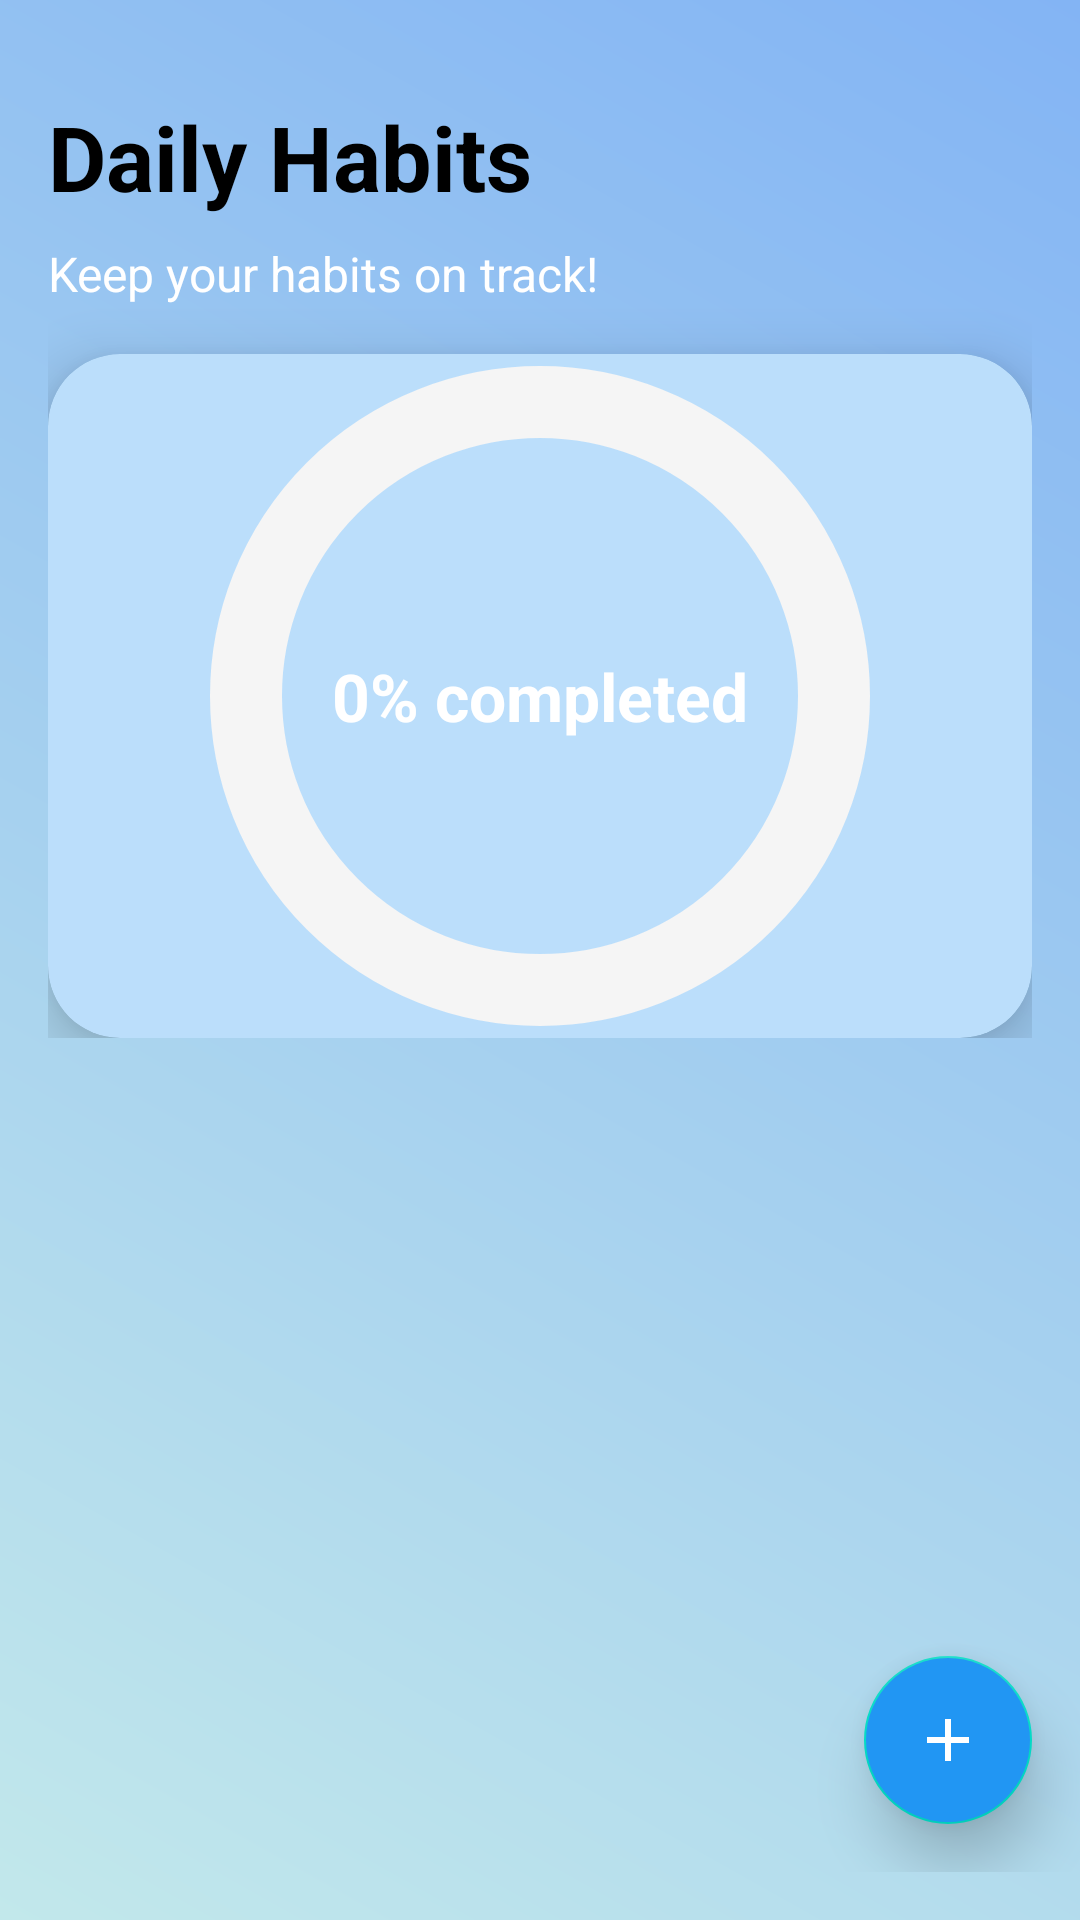

Point at icon controls on the screen. Image size 1080*1920, points as [x,y].
Add Habit: [948,1740]
